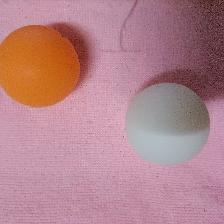WhiteBall: (125, 82, 210, 164)
YellowBall: (0, 24, 80, 108)
